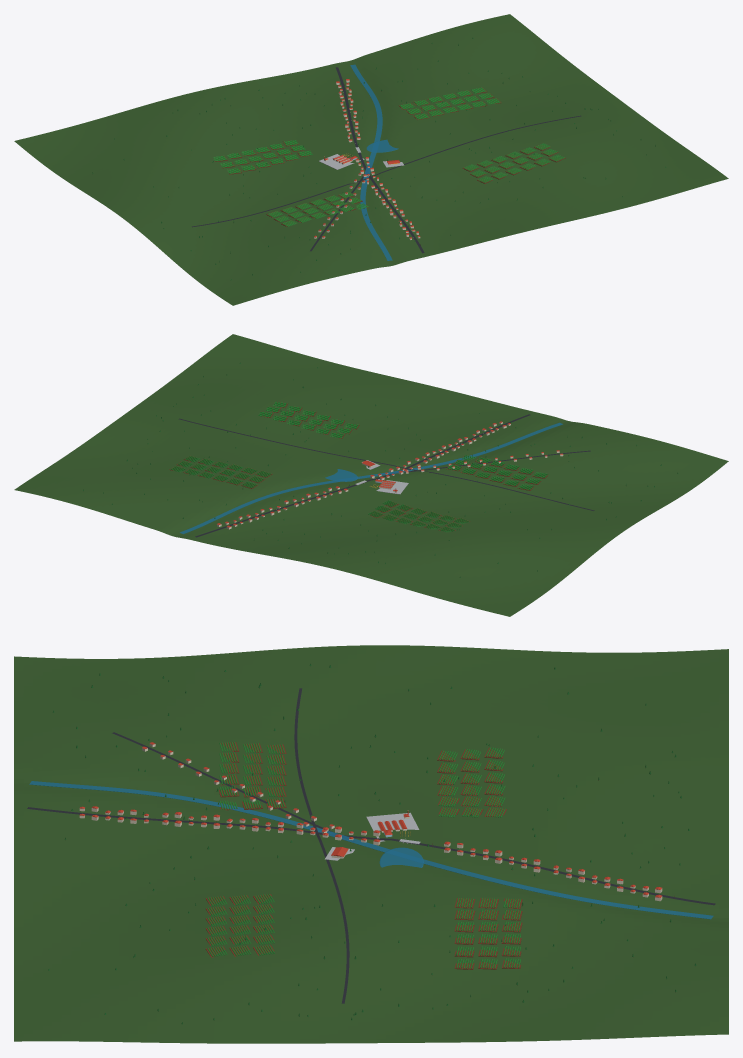
The model's file is ring3_w5_lam_ha_nam_ban_town_and_mulberry_silk_valley.glb.
3 views of the same model, one above another, from view 1: azimuth 30°, elevation 25°; view 2: azimuth 150°, elevation 25°; view 3: azimuth 270°, elevation 25° (orthographic). The views are drawn at different scales.
Visible parts, largest first — view 1: NamBan_Basalt_Valley_Terrain, Mulberry_Plantation_Rows, Mulberry_RedBasalt_Terraces, DT725_Highway_And_Town_Grid, CamLy_Stream_And_Silk_Lake, Silk_Factory_And_Town_Walls, Silk_Factory_And_Market_Roofs; view 2: NamBan_Basalt_Valley_Terrain, Mulberry_Plantation_Rows, Mulberry_RedBasalt_Terraces, CamLy_Stream_And_Silk_Lake, DT725_Highway_And_Town_Grid, Silk_Factory_And_Town_Walls, Silk_Factory_And_Market_Roofs; view 3: NamBan_Basalt_Valley_Terrain, Mulberry_Plantation_Rows, Mulberry_RedBasalt_Terraces, CamLy_Stream_And_Silk_Lake, DT725_Highway_And_Town_Grid, Silk_Factory_And_Town_Walls, Silk_Factory_And_Market_Roofs, NamBan_Shade_And_Pine_Canopies, CamLy_Bridge_And_Concrete.
Part boxes in pixels (x1,y1,x2,y2): NamBan_Basalt_Valley_Terrain: (14, 14, 728, 305); Mulberry_Plantation_Rows: (213, 87, 564, 226); Mulberry_RedBasalt_Terraces: (214, 87, 565, 226); DT725_Highway_And_Town_Grid: (192, 67, 581, 253); CamLy_Stream_And_Silk_Lake: (350, 64, 398, 260); Silk_Factory_And_Town_Walls: (314, 80, 420, 239); Silk_Factory_And_Market_Roofs: (314, 79, 420, 238); NamBan_Basalt_Valley_Terrain: (14, 334, 728, 616); Mulberry_Plantation_Rows: (170, 402, 548, 532); Mulberry_RedBasalt_Terraces: (169, 402, 548, 530); CamLy_Stream_And_Silk_Lake: (180, 422, 562, 534); DT725_Highway_And_Town_Grid: (178, 414, 594, 537); Silk_Factory_And_Town_Walls: (217, 422, 563, 529); Silk_Factory_And_Market_Roofs: (217, 421, 563, 527); NamBan_Basalt_Valley_Terrain: (14, 645, 728, 1043); Mulberry_Plantation_Rows: (207, 742, 520, 968); Mulberry_RedBasalt_Terraces: (205, 742, 522, 969); CamLy_Stream_And_Silk_Lake: (29, 781, 713, 919); DT725_Highway_And_Town_Grid: (27, 688, 715, 1003); Silk_Factory_And_Town_Walls: (79, 743, 662, 901); Silk_Factory_And_Market_Roofs: (79, 742, 661, 897); NamBan_Shade_And_Pine_Canopies: (48, 664, 696, 1024); CamLy_Bridge_And_Concrete: (324, 812, 420, 860).
Size of the model in its own units: 3400 by 90.35 by 2600.
